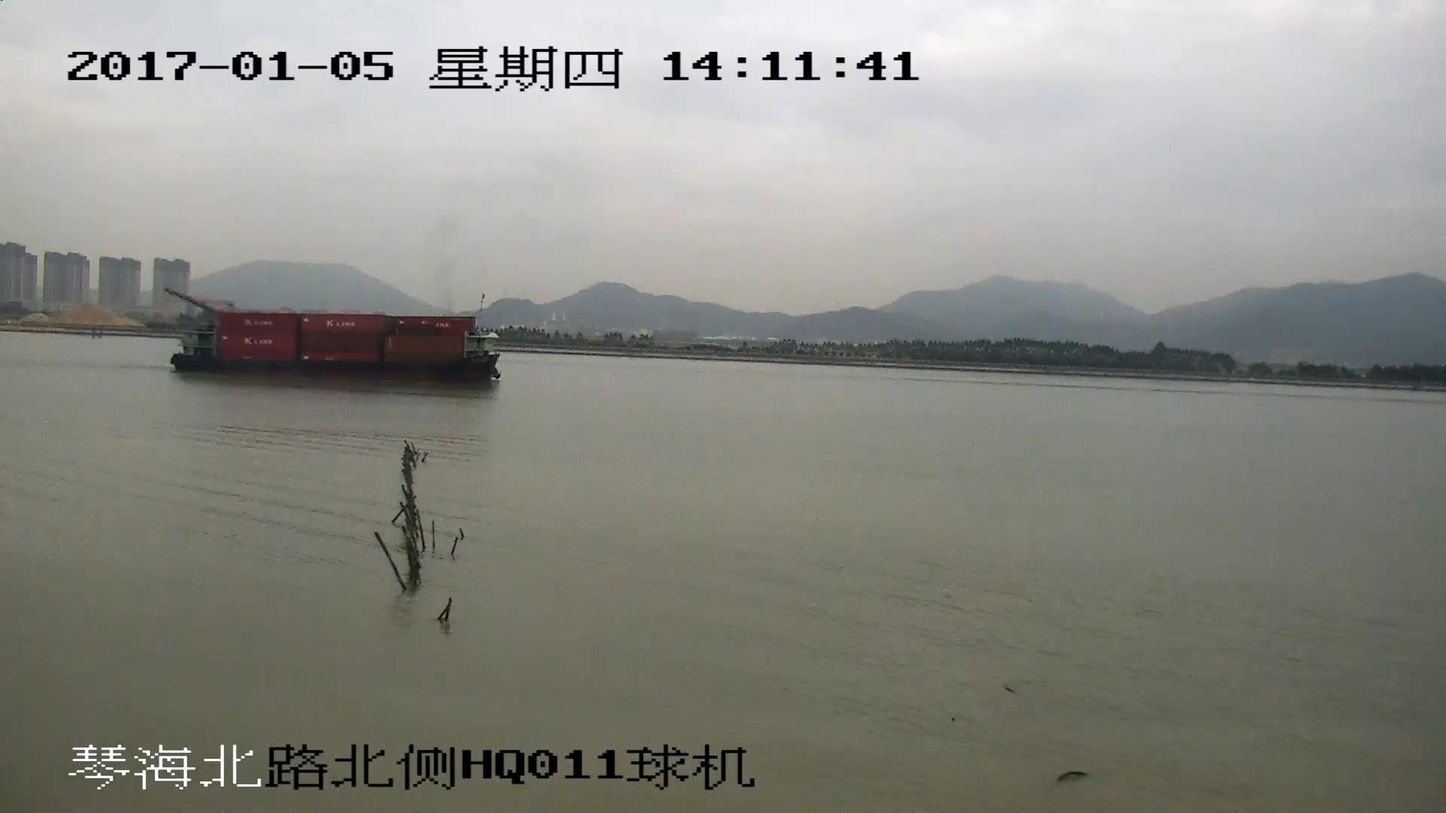container ship: (170, 308, 502, 385)
